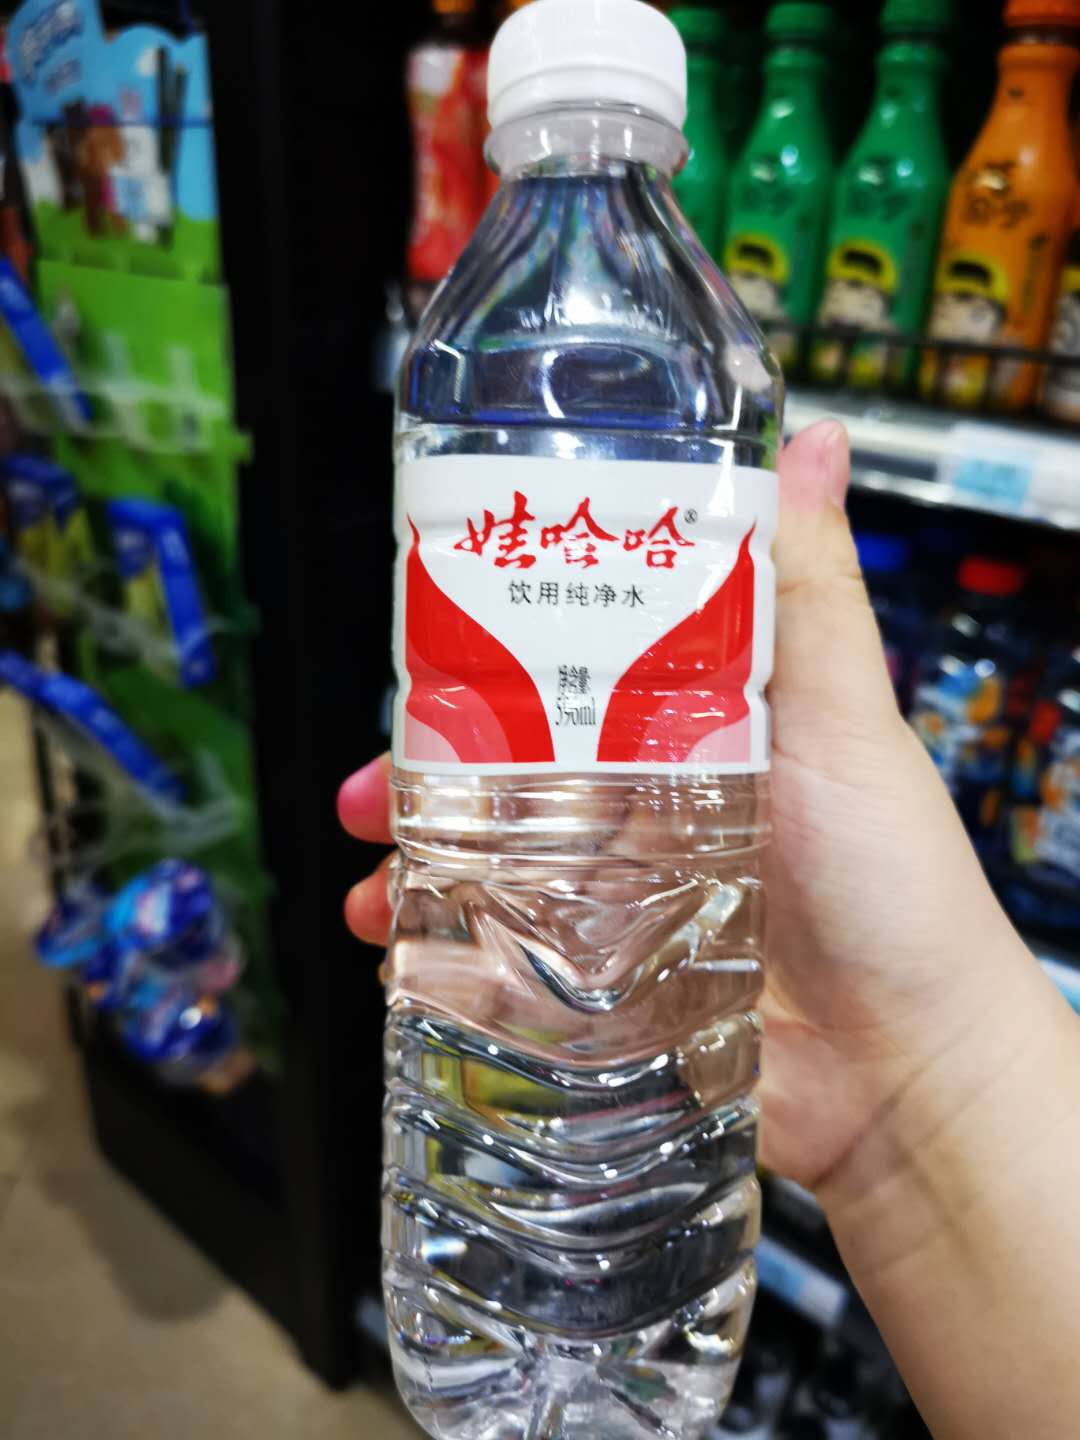哇哈哈: (380, 9, 763, 1422)
